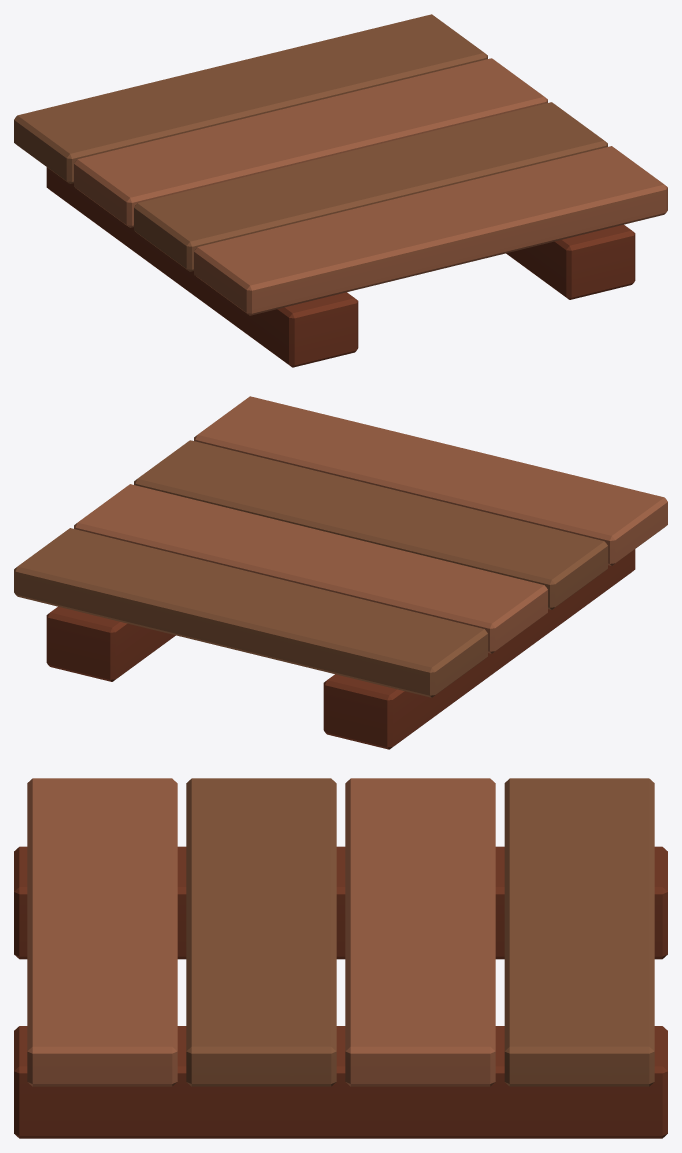
The model's file is bridge_stone.glb.
3 views of the same model, one above another, from view 1: azimuth 30°, elevation 25°; view 2: azimuth 150°, elevation 25°; view 3: azimuth 270°, elevation 25° (orthographic). The views are drawn at different scales.
Visible parts, largest first — view 1: bridge_stone; view 2: bridge_stone; view 3: bridge_stone.
Part boxes in pixels (bbox=[...]): bridge_stone: bbox=[14, 14, 667, 367]; bridge_stone: bbox=[14, 396, 667, 749]; bridge_stone: bbox=[14, 778, 667, 1138].
Bounding box in the file's own units: 1.46 × 0.29 × 1.48.
